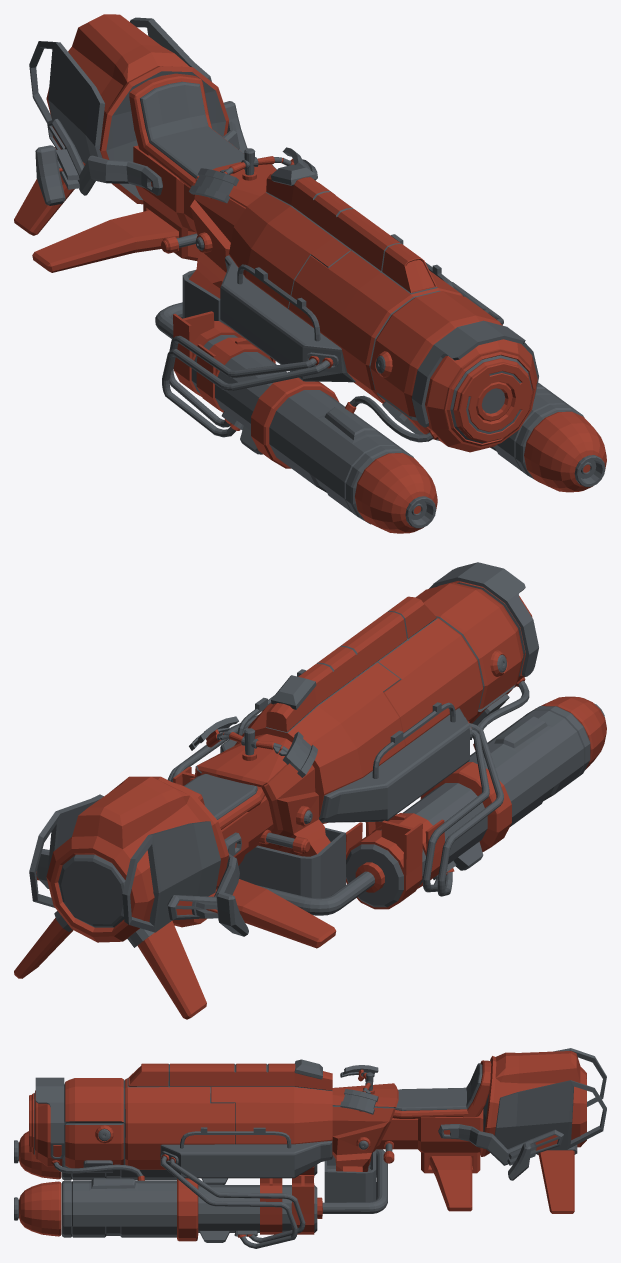
The model's file is Personal_Vehicle_03_Red.fbx.
The picture shows the model from 3 angles, top to bottom: view 1: azimuth 30°, elevation 25°; view 2: azimuth 150°, elevation 25°; view 3: azimuth 270°, elevation 25°; orthographic projection. The views are drawn at different scales.
Parts seen in each view (by area): view 1: Personal_Vehicle_03_Red; view 2: Personal_Vehicle_03_Red; view 3: Personal_Vehicle_03_Red.
Part boxes in pixels (box(x1,y1,x2,y2)): Personal_Vehicle_03_Red: box(14, 14, 606, 533); Personal_Vehicle_03_Red: box(14, 562, 606, 1019); Personal_Vehicle_03_Red: box(14, 1048, 606, 1248).
Size of the model in its own units: 181 by 135 by 465.
2 materials, 2 textured.
